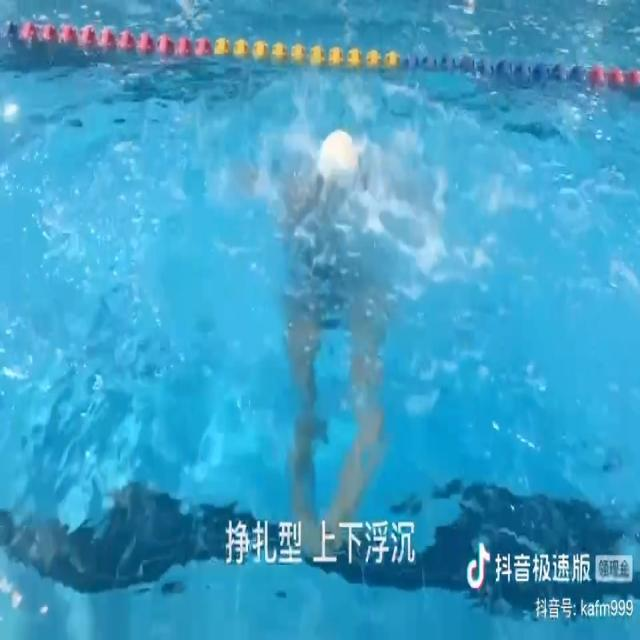Drowning: (240, 122, 406, 515)
